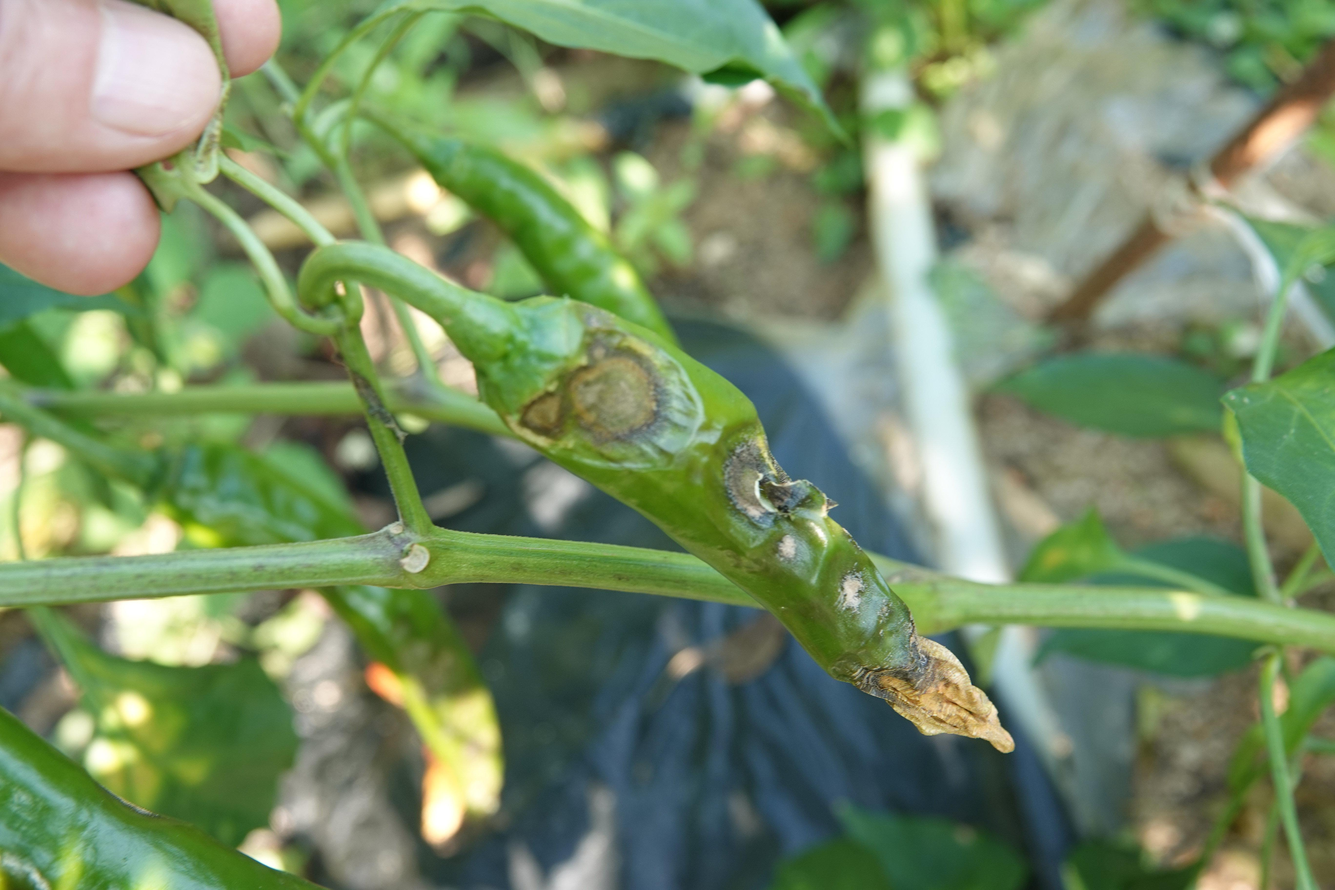Busuk Buah Antraknosa: (462, 294, 1018, 757)
